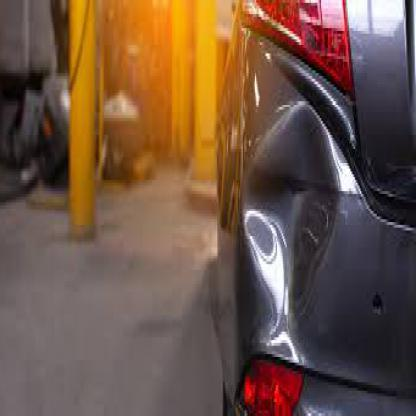dent: (244, 110, 338, 328)
